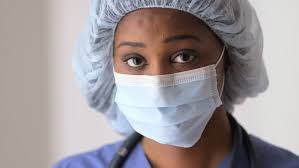with-mask: (99, 6, 237, 152)
